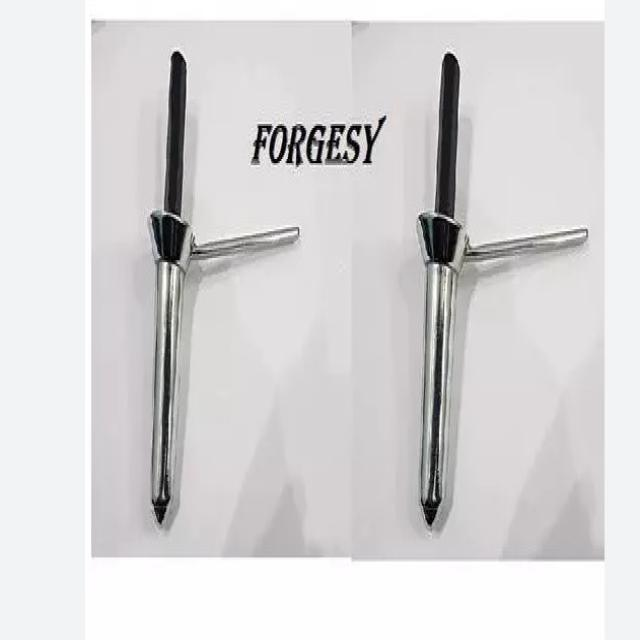Protoscope: (412, 45, 591, 540), (132, 48, 300, 526)
